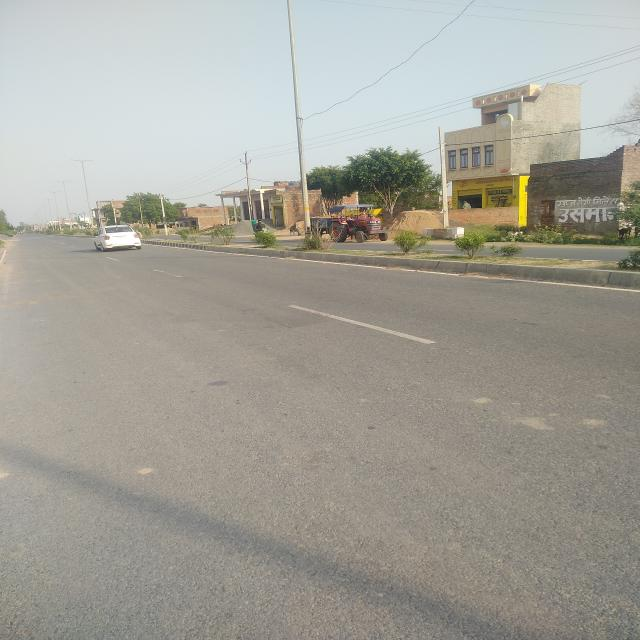Tractor: (308, 205, 389, 243)
cars: (93, 224, 142, 252)
